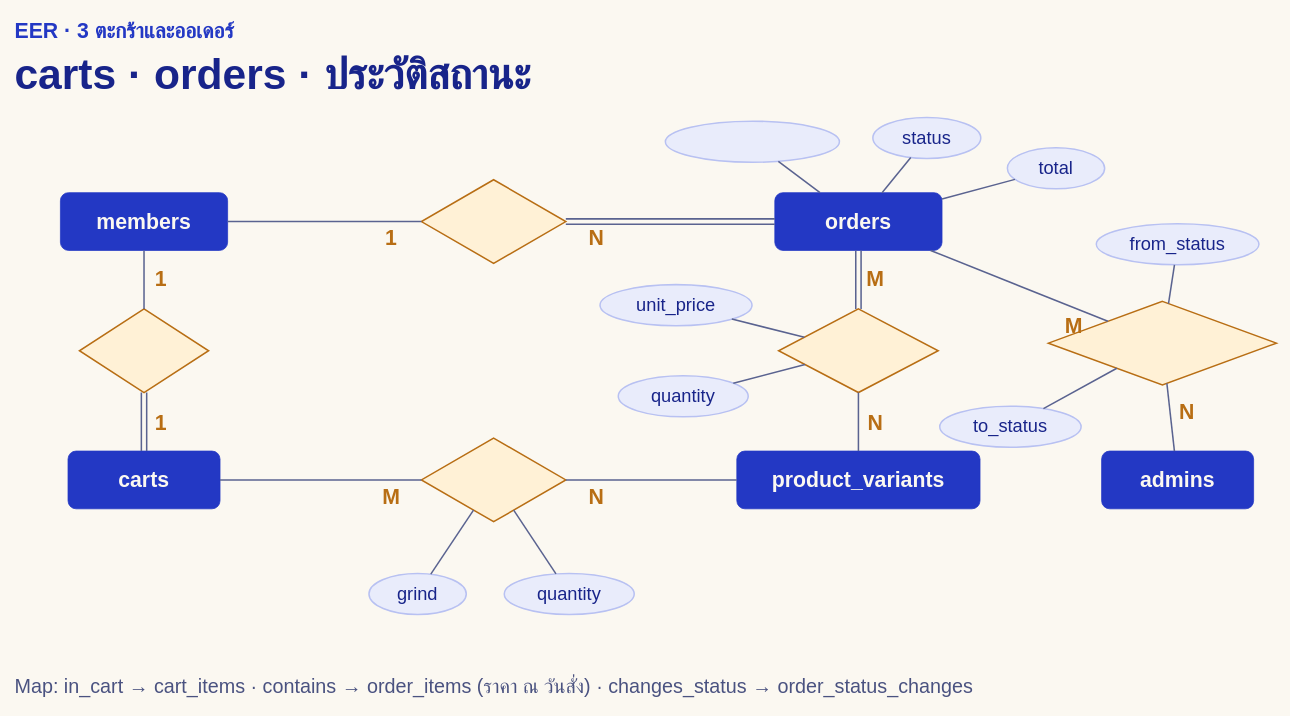
Image size: 1290x716. Some labels were removed from this diagram. Each missing label, with the box of its shape:
changes_status: (1047, 300, 1277, 385)
contains: (777, 308, 939, 393)
in_cart: (420, 437, 566, 522)
order_number: (664, 120, 840, 163)
owns: (78, 308, 209, 393)
places: (420, 179, 566, 264)
